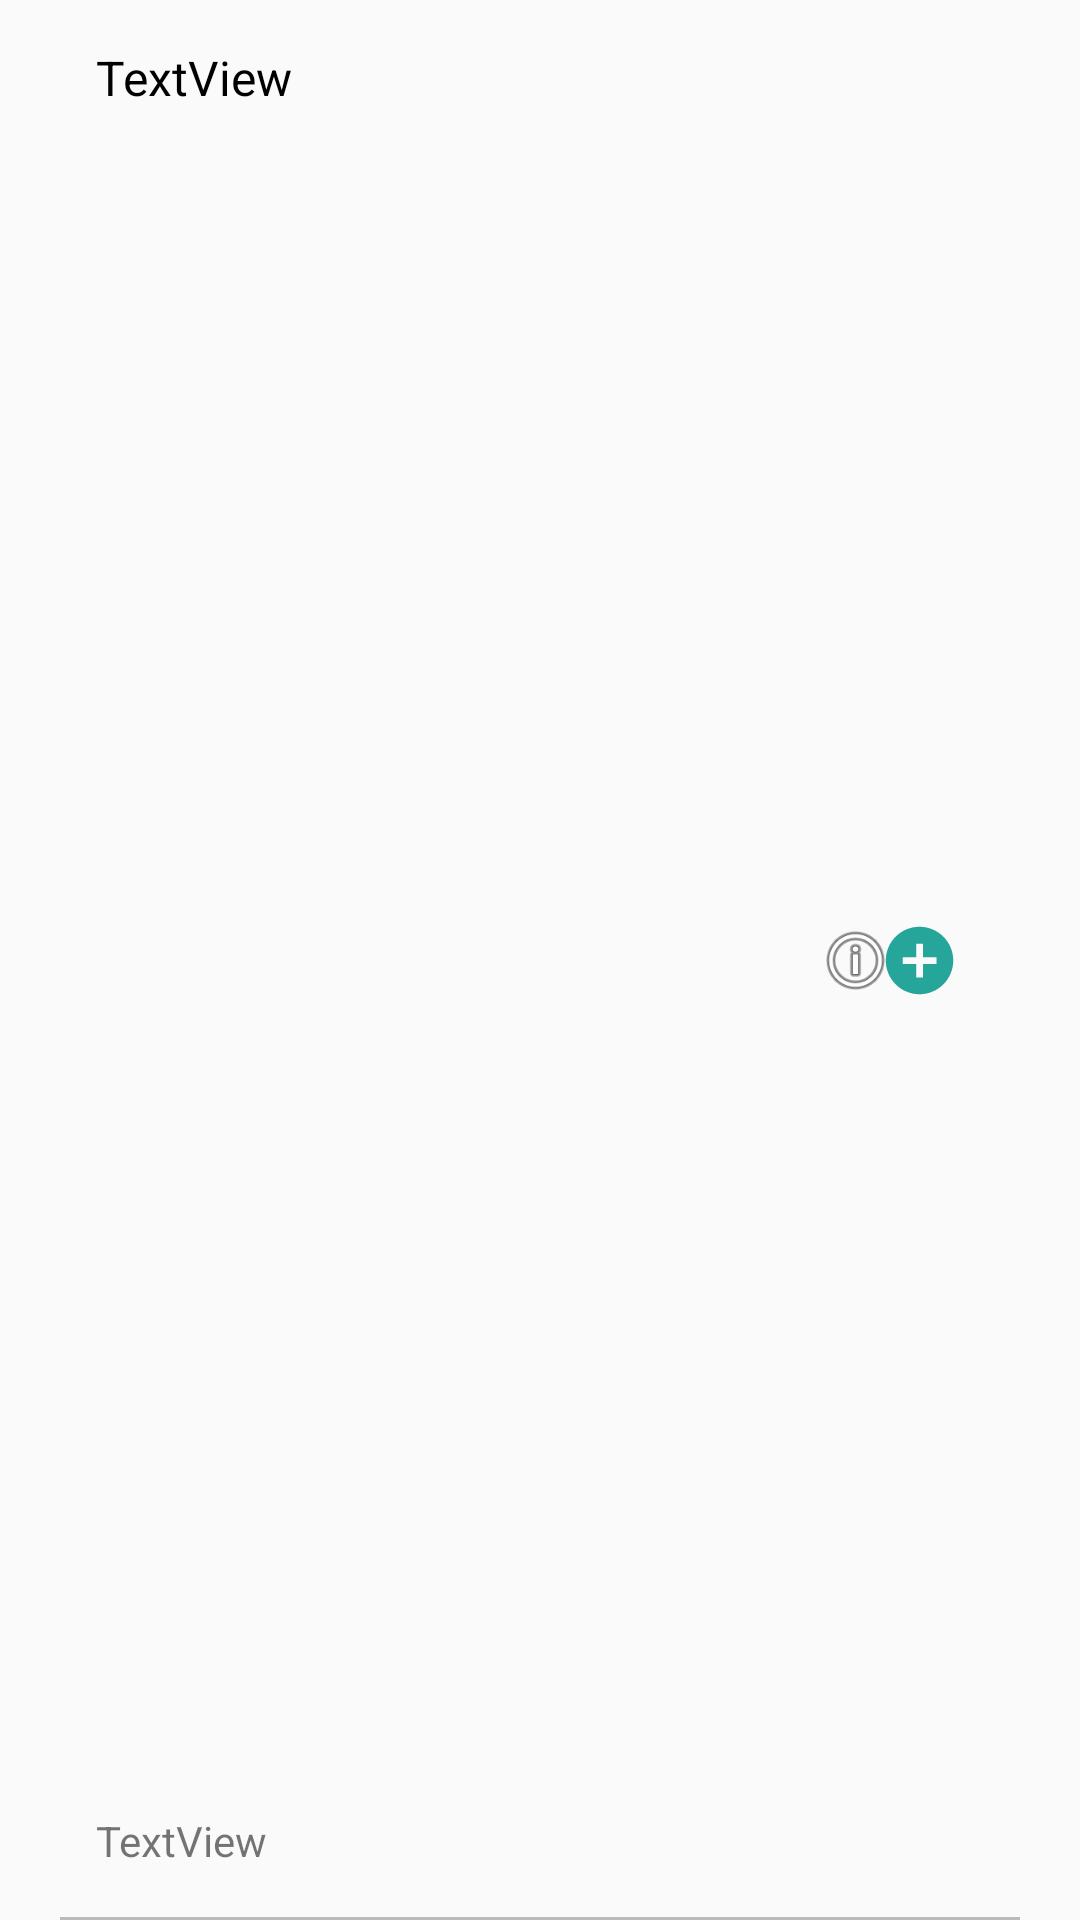

Locate icon controls on the screen. Image size 1080px×1920px, boxes as (x1=x1, y1=y1, x2=x2, y2=y2).
info details: (x1=826, y1=931, x2=896, y2=990)
plus: (x1=879, y1=926, x2=954, y2=995)
